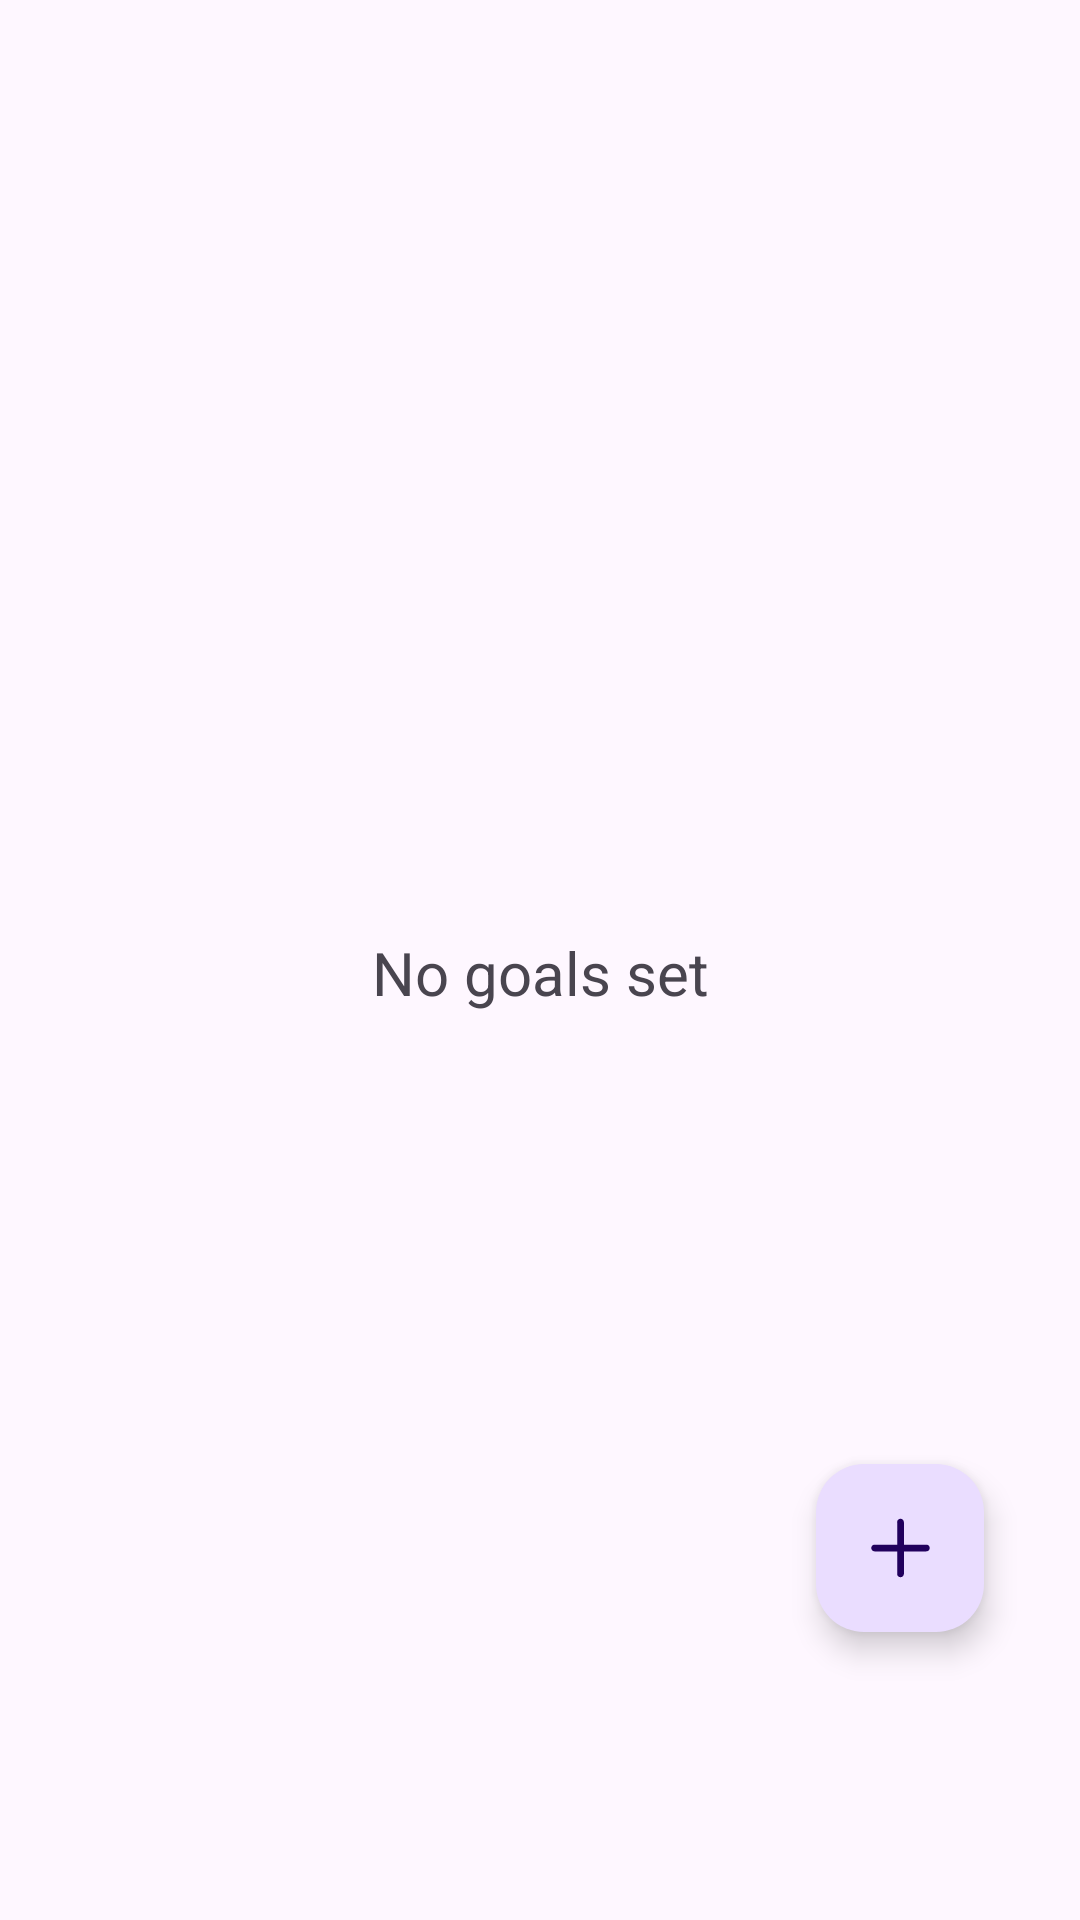

Icons on this 1080*1920 Android screen, each with its box as (x1, y1, x2, y2):
Add a new goal: (816, 1464, 984, 1632)
